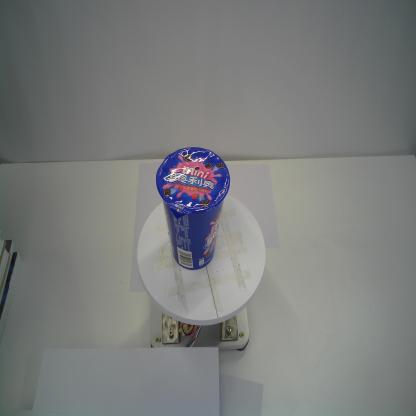Dessert: (155, 146, 231, 270)
